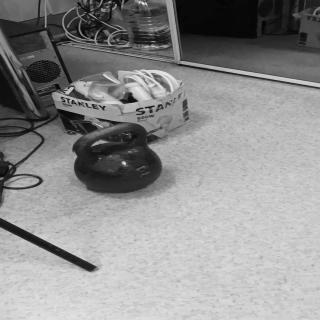kettlebell: (72, 122, 168, 194)
